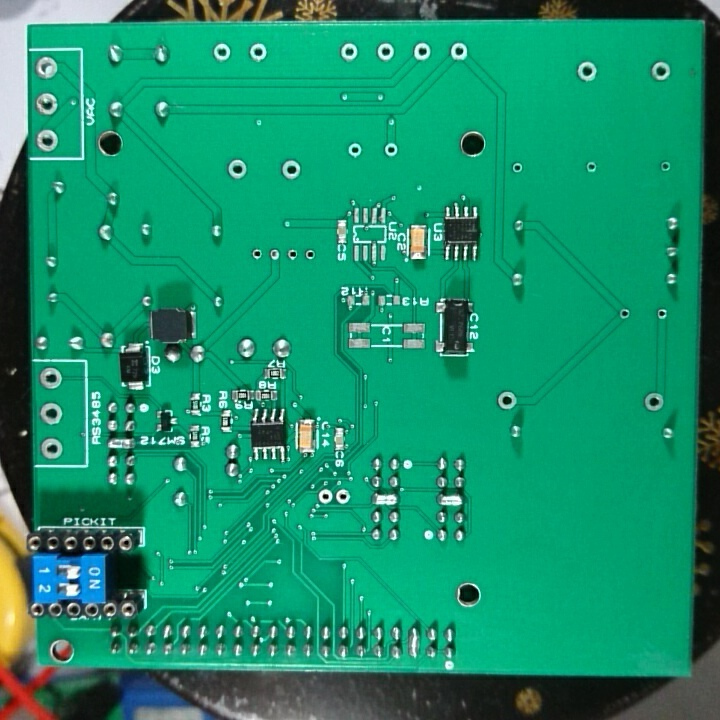F: (574, 55, 607, 88), (33, 89, 60, 120), (38, 398, 65, 429), (38, 434, 66, 463), (33, 55, 61, 82), (33, 126, 61, 153), (277, 156, 304, 183), (38, 365, 65, 391), (639, 388, 665, 415), (445, 38, 470, 66), (225, 155, 250, 183), (650, 58, 673, 88), (410, 40, 436, 66), (495, 386, 520, 413), (247, 38, 270, 66), (374, 38, 399, 63), (210, 38, 233, 65), (339, 38, 360, 63), (332, 485, 352, 511), (316, 484, 334, 507), (382, 139, 400, 159), (654, 305, 670, 326), (267, 244, 282, 266), (302, 245, 319, 264), (615, 305, 634, 322), (283, 244, 299, 263), (346, 140, 361, 160), (250, 245, 266, 263), (583, 158, 598, 176), (657, 159, 672, 175), (508, 158, 519, 178)
P: (367, 489, 403, 508), (434, 492, 470, 510), (407, 621, 421, 660), (105, 435, 137, 452)
